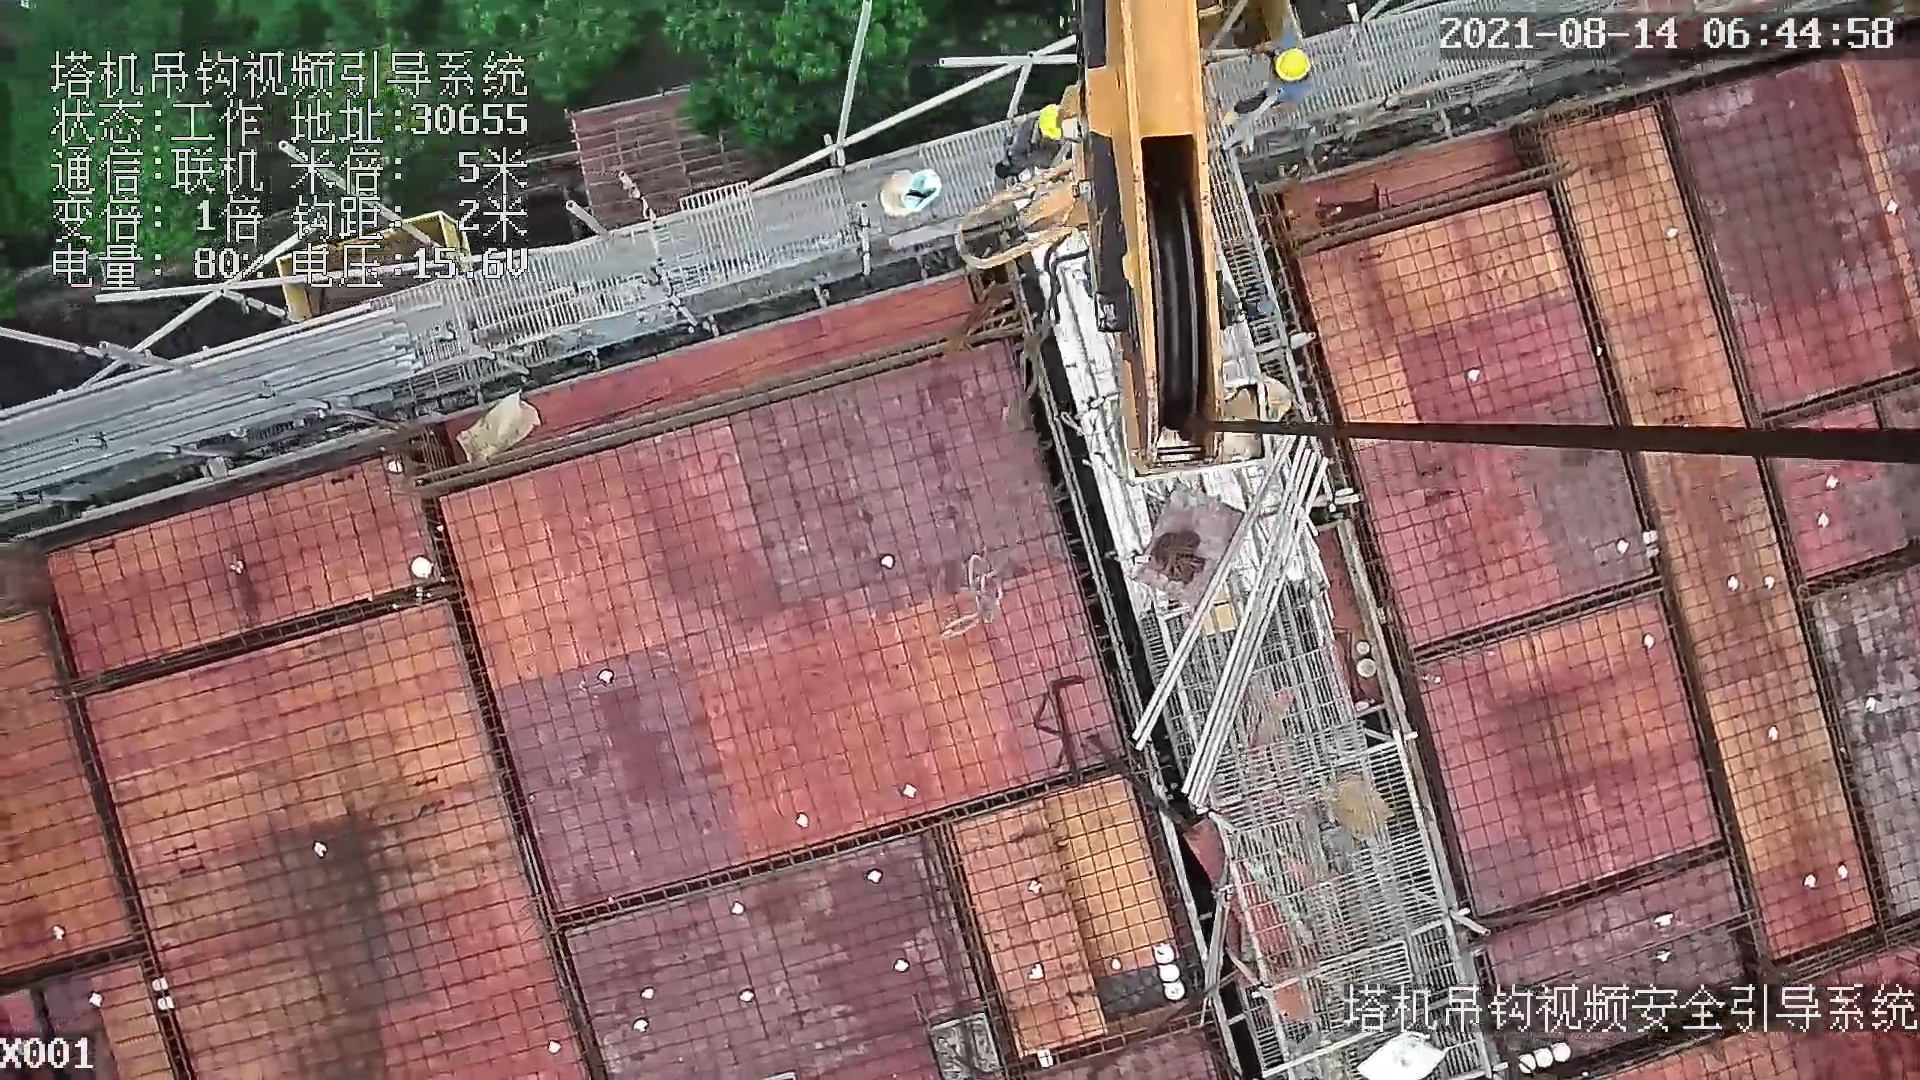helmet: (1274, 43, 1312, 91), (1037, 104, 1069, 143)
hook: (947, 6, 1232, 472)
person: (993, 97, 1073, 183), (1255, 33, 1322, 119)
